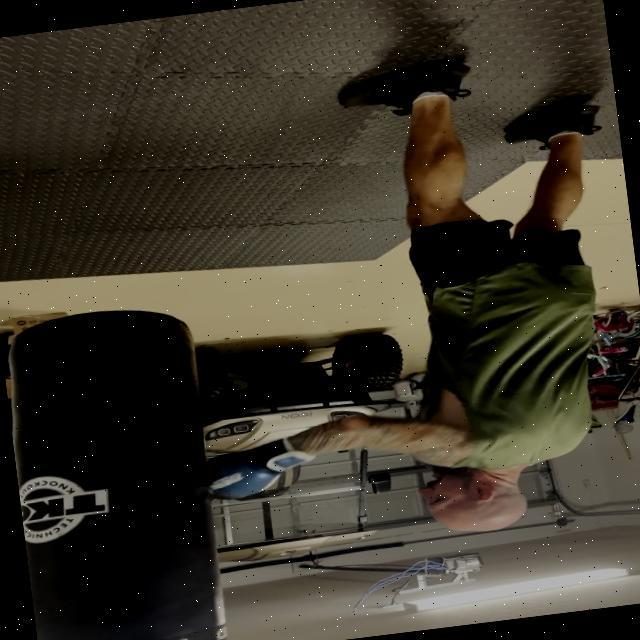punch: (164, 336, 632, 580)
